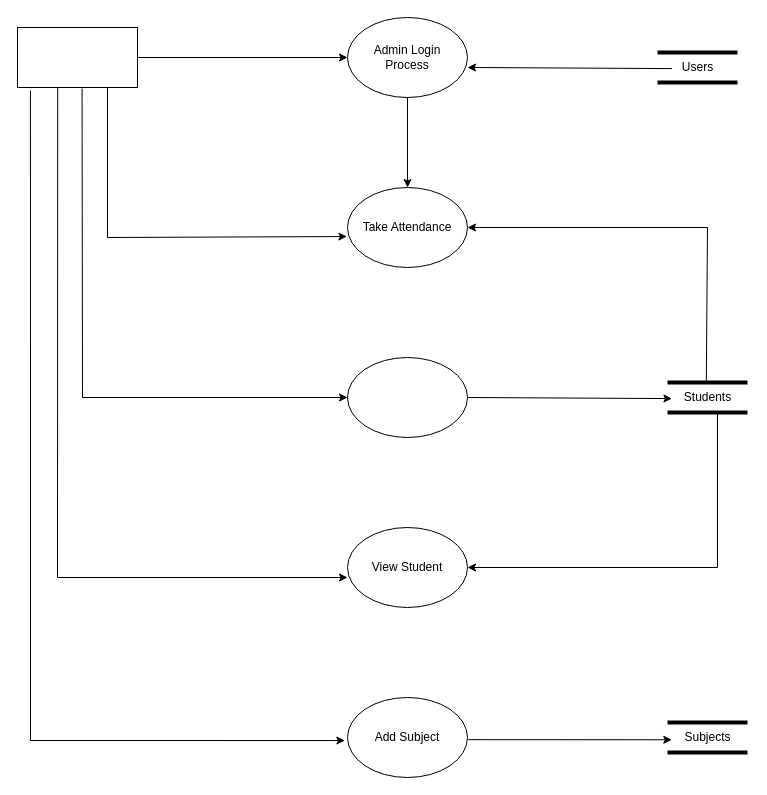
This 767x795 diagram has some shape labels left out. Each missing label, with the centre of its shape:
"Add Student" belongs at [407,397].
"ADMIN" belongs at [77,57].
